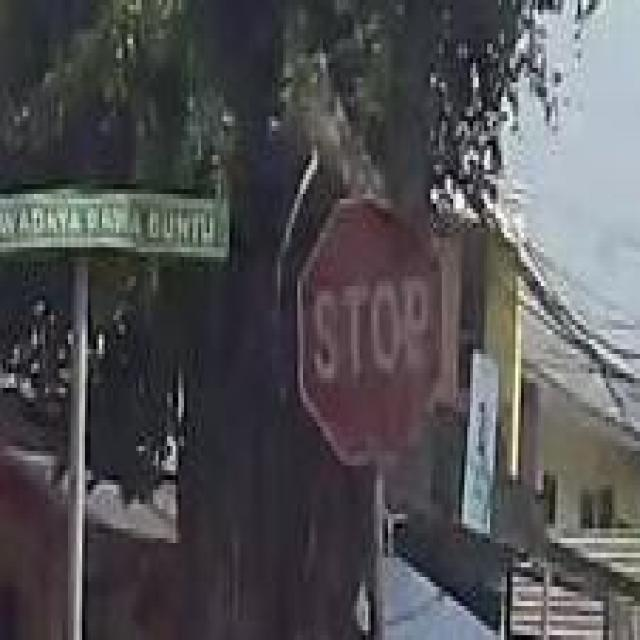traffic sign: (306, 199, 442, 461)
